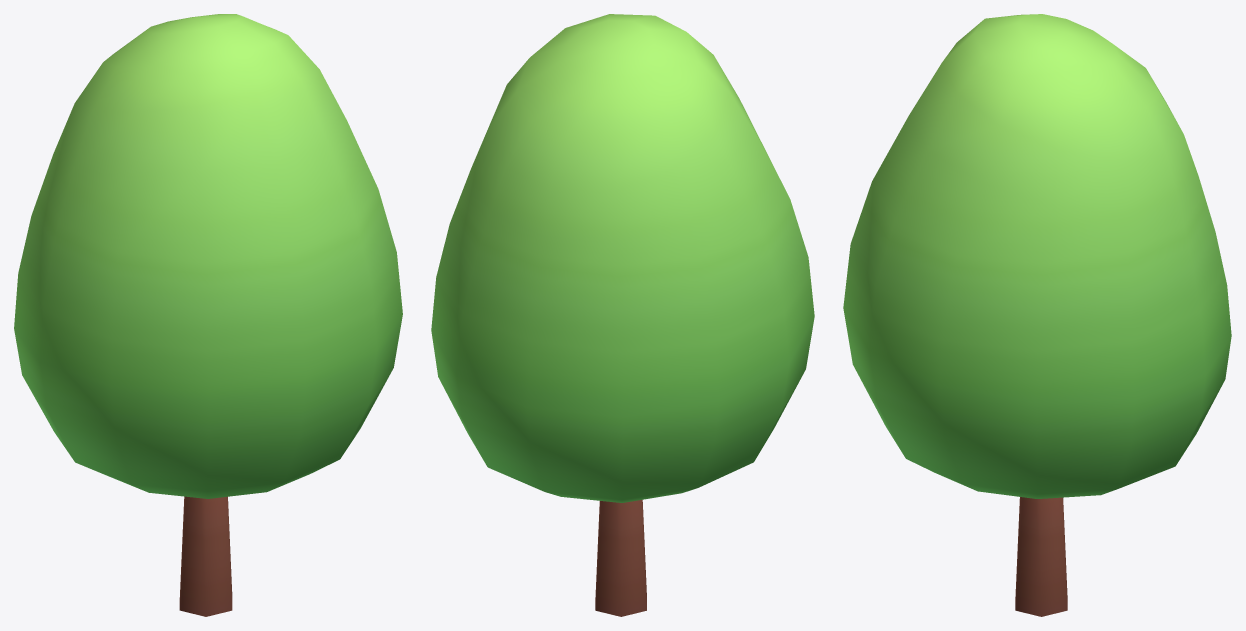
The model's file is city2-tree-06.glb.
3 renders of one model, left to right at view 1: azimuth 30°, elevation 25°; view 2: azimuth 150°, elevation 25°; view 3: azimuth 270°, elevation 25°, orthographic.
Parts seen in each view (by area): view 1: Tree_06; view 2: Tree_06; view 3: Tree_06.
Part boxes in pixels (bbox=[...]): Tree_06: bbox=[14, 14, 402, 616]; Tree_06: bbox=[431, 14, 814, 616]; Tree_06: bbox=[843, 14, 1231, 616].
Bounding box in the file's own units: 3.63 × 6.03 × 3.65.
Materials: 1 (1 with a texture image).
